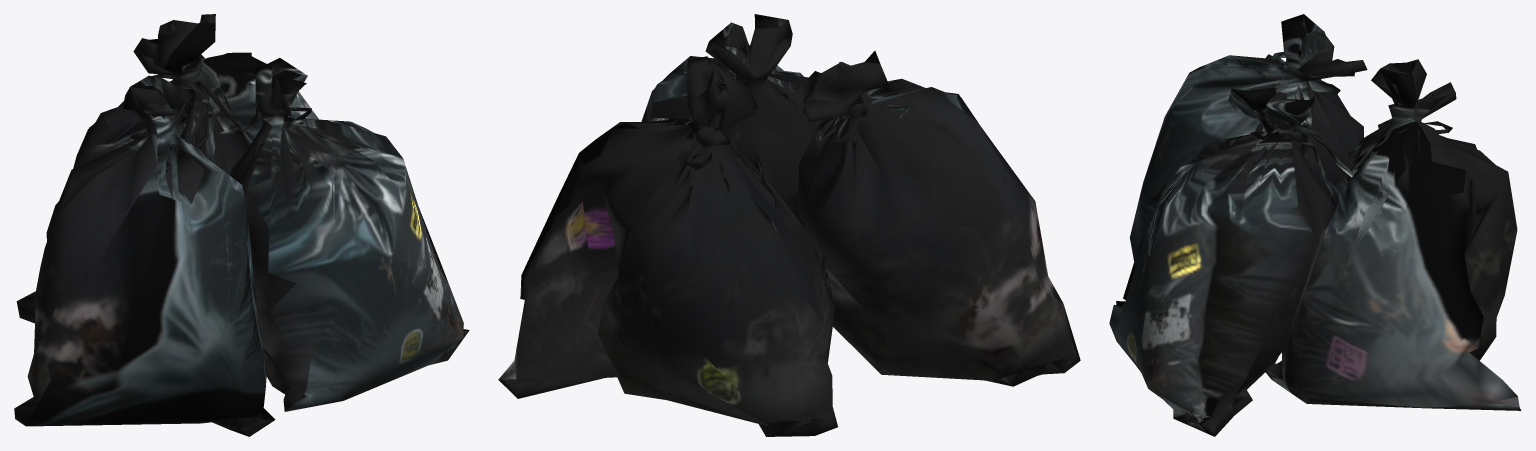
3 views of the same model, side by side, from view 1: azimuth 30°, elevation 25°; view 2: azimuth 150°, elevation 25°; view 3: azimuth 270°, elevation 25° (orthographic). The views are drawn at different scales.
Parts seen in each view (by area): view 1: SM_SM_AI_trash_bag; view 2: SM_SM_AI_trash_bag; view 3: SM_SM_AI_trash_bag.
Boxes of the visible parts, x1,y1,x2,y2 form: SM_SM_AI_trash_bag: (14,14,469,436); SM_SM_AI_trash_bag: (498,14,1080,436); SM_SM_AI_trash_bag: (1109,14,1521,436).
Size of the model in its own units: 0.9991 by 0.6496 by 0.8248.
Materials: 1 (1 with a texture image).
